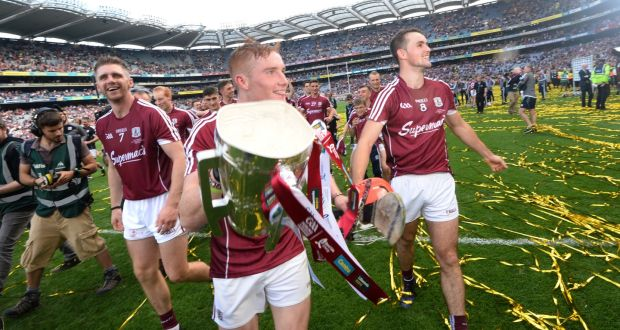player: (187, 28, 325, 315), (366, 20, 498, 283), (80, 53, 201, 296)
